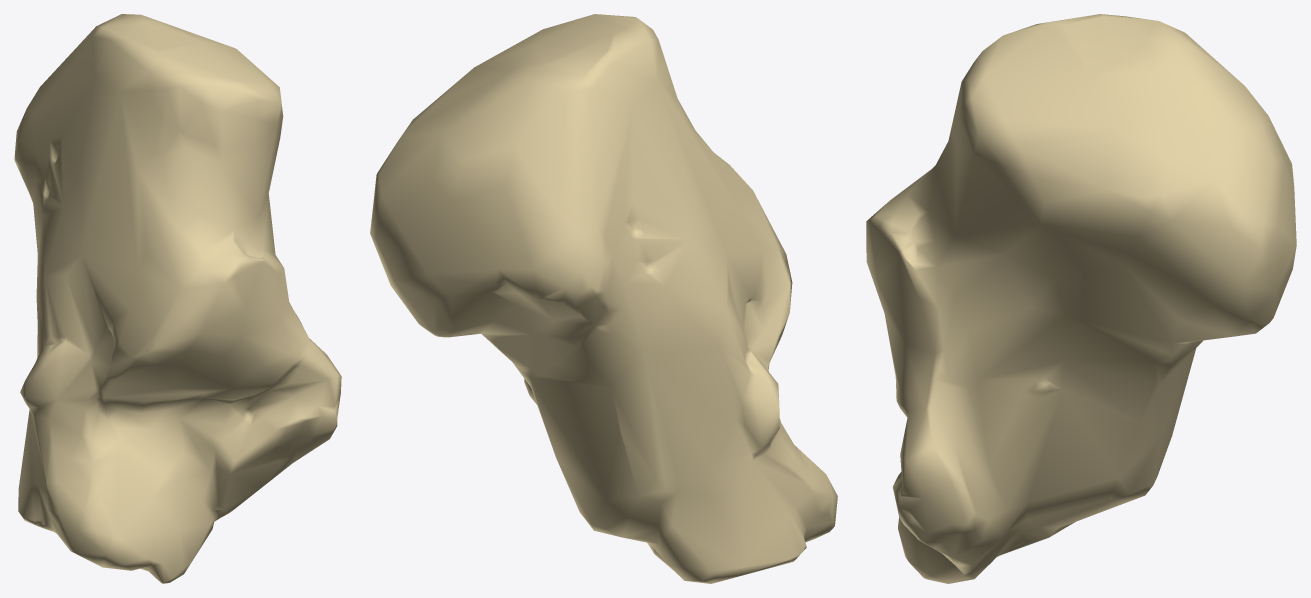
The picture shows the model from 3 angles, left to right: view 1: azimuth 30°, elevation 25°; view 2: azimuth 150°, elevation 25°; view 3: azimuth 270°, elevation 25°; orthographic projection. The views are drawn at different scales.
Visible parts, largest first — view 1: 右侧跟骨; view 2: 右侧跟骨; view 3: 右侧跟骨.
Boxes of the visible parts, x1=… form: 右侧跟骨: x1=14, y1=14, x2=341, y2=583; 右侧跟骨: x1=370, y1=14, x2=837, y2=583; 右侧跟骨: x1=866, y1=14, x2=1296, y2=583.
Size of the model in its own units: 0.07 by 0.1115 by 0.0753.
